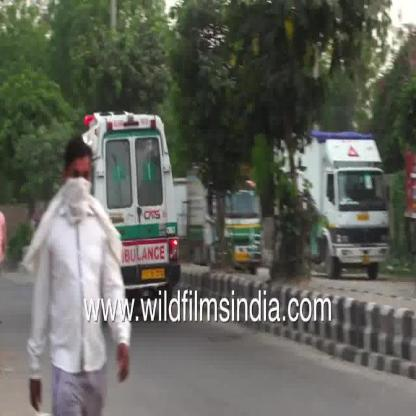priority: (92, 97, 189, 283)
